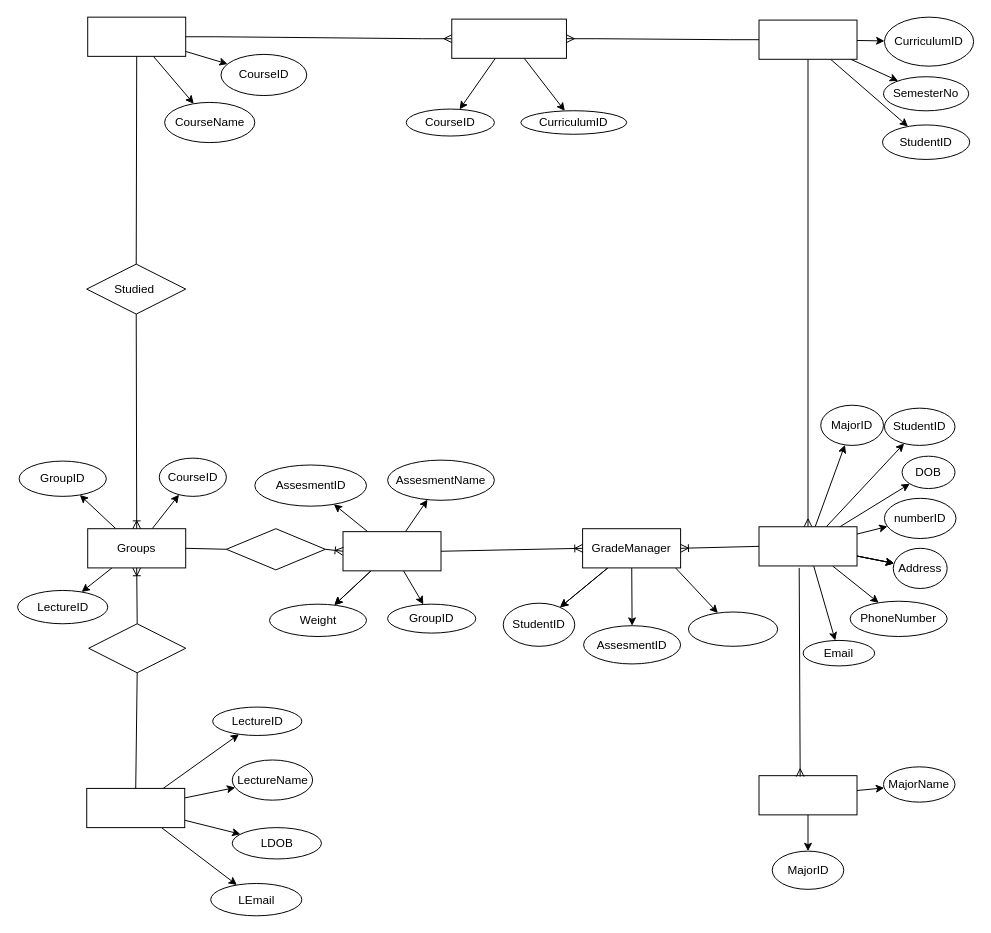
The diagram is 991 pixels wide and 933 high, and some of its shapes have lost their labels. Each missing label, with the centre of its shape:
"Assesments" belongs at pixel 391 551.
"Courses" belongs at pixel 136 36.
"Curriculum" belongs at pixel 807 39.
"Has" belongs at pixel 275 549.
"Lectures" belongs at pixel 135 807.
"Majors" belongs at pixel 807 795.
"Score" belongs at pixel 732 628.
"Students" belongs at pixel 807 546.
"Subject_Curriculum" belongs at pixel 508 38.
"Supervies" belongs at pixel 137 648.
